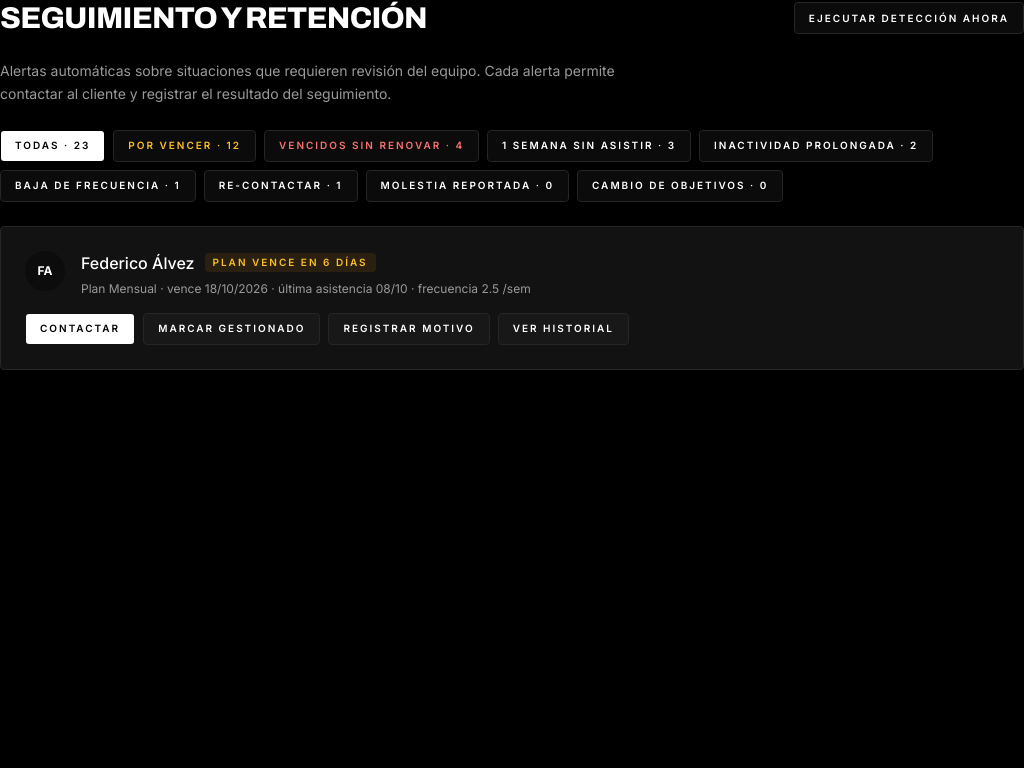
Test: FollowupView contact dialog › shows our copy under the channel and the outcome when the API rejects them, never the API text
What coordinates should you click on to do the following:
click the button "Contactar"
I would click on:
 (80, 328)
Its box is [25,312,135,344].
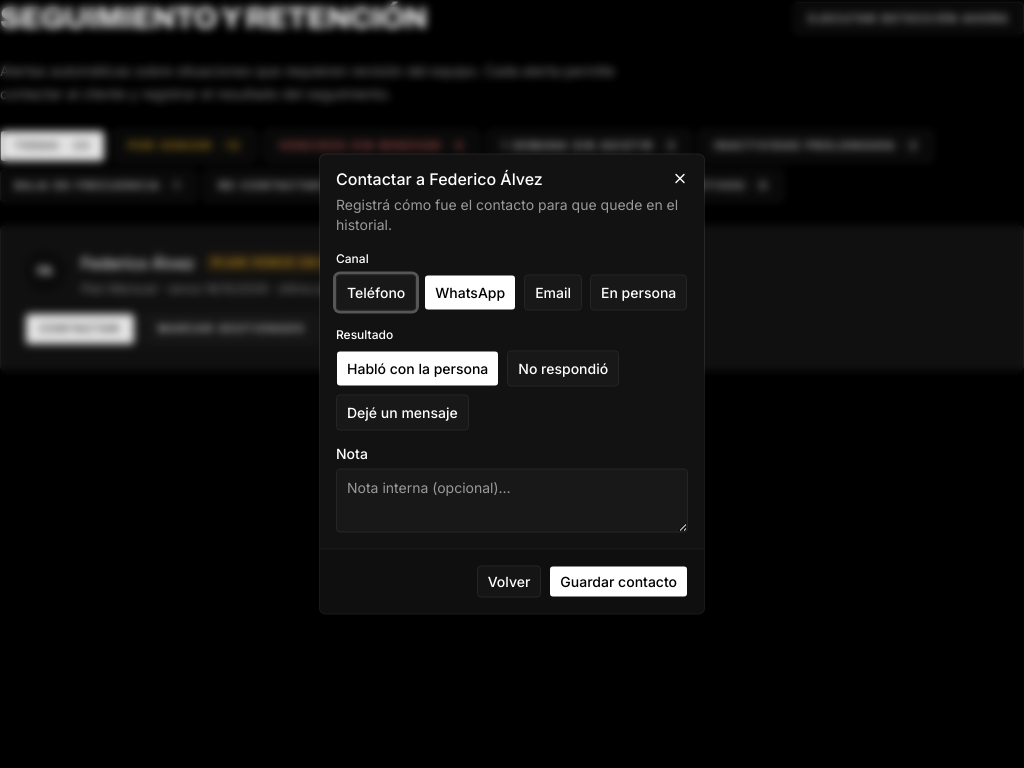
What coordinates should you click on to do the following:
click the button "Guardar contacto"
I would click on:
 (619, 582)
Its box is [549,566,688,598].
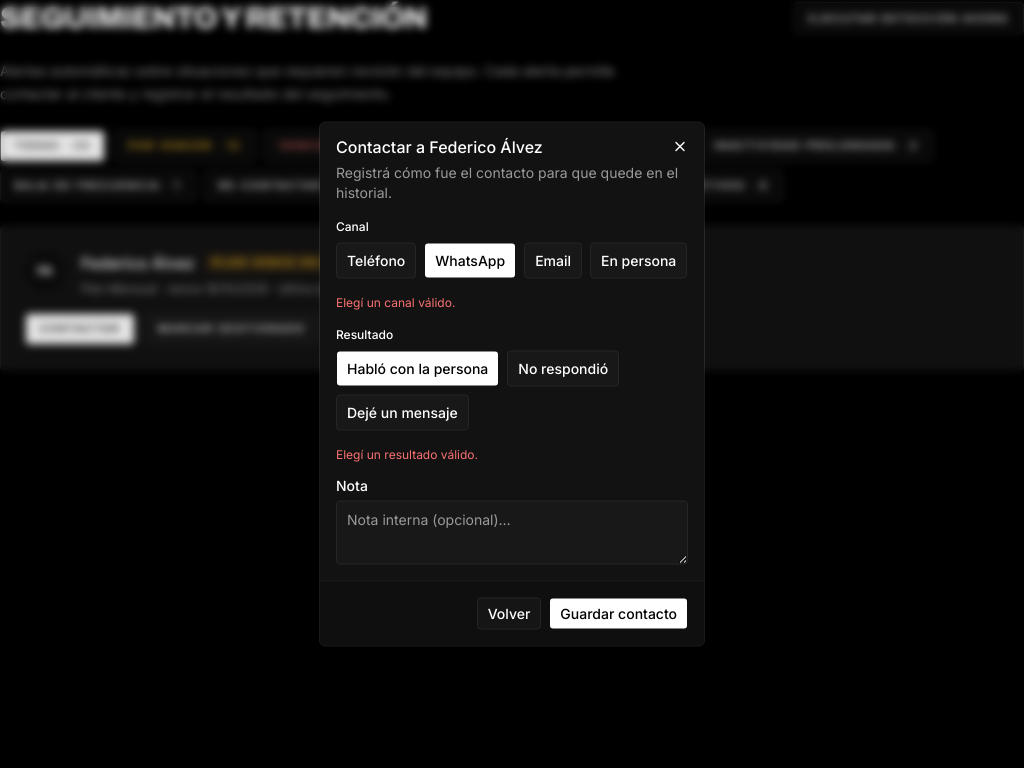
Check: the dialog is shown, box [320,122,704,646]
Check: the text "Elegí un canal válido." is shown, box [336,294,455,310]
Check: the text "Elegí un resultado válido." is shown, box [336,446,478,462]
